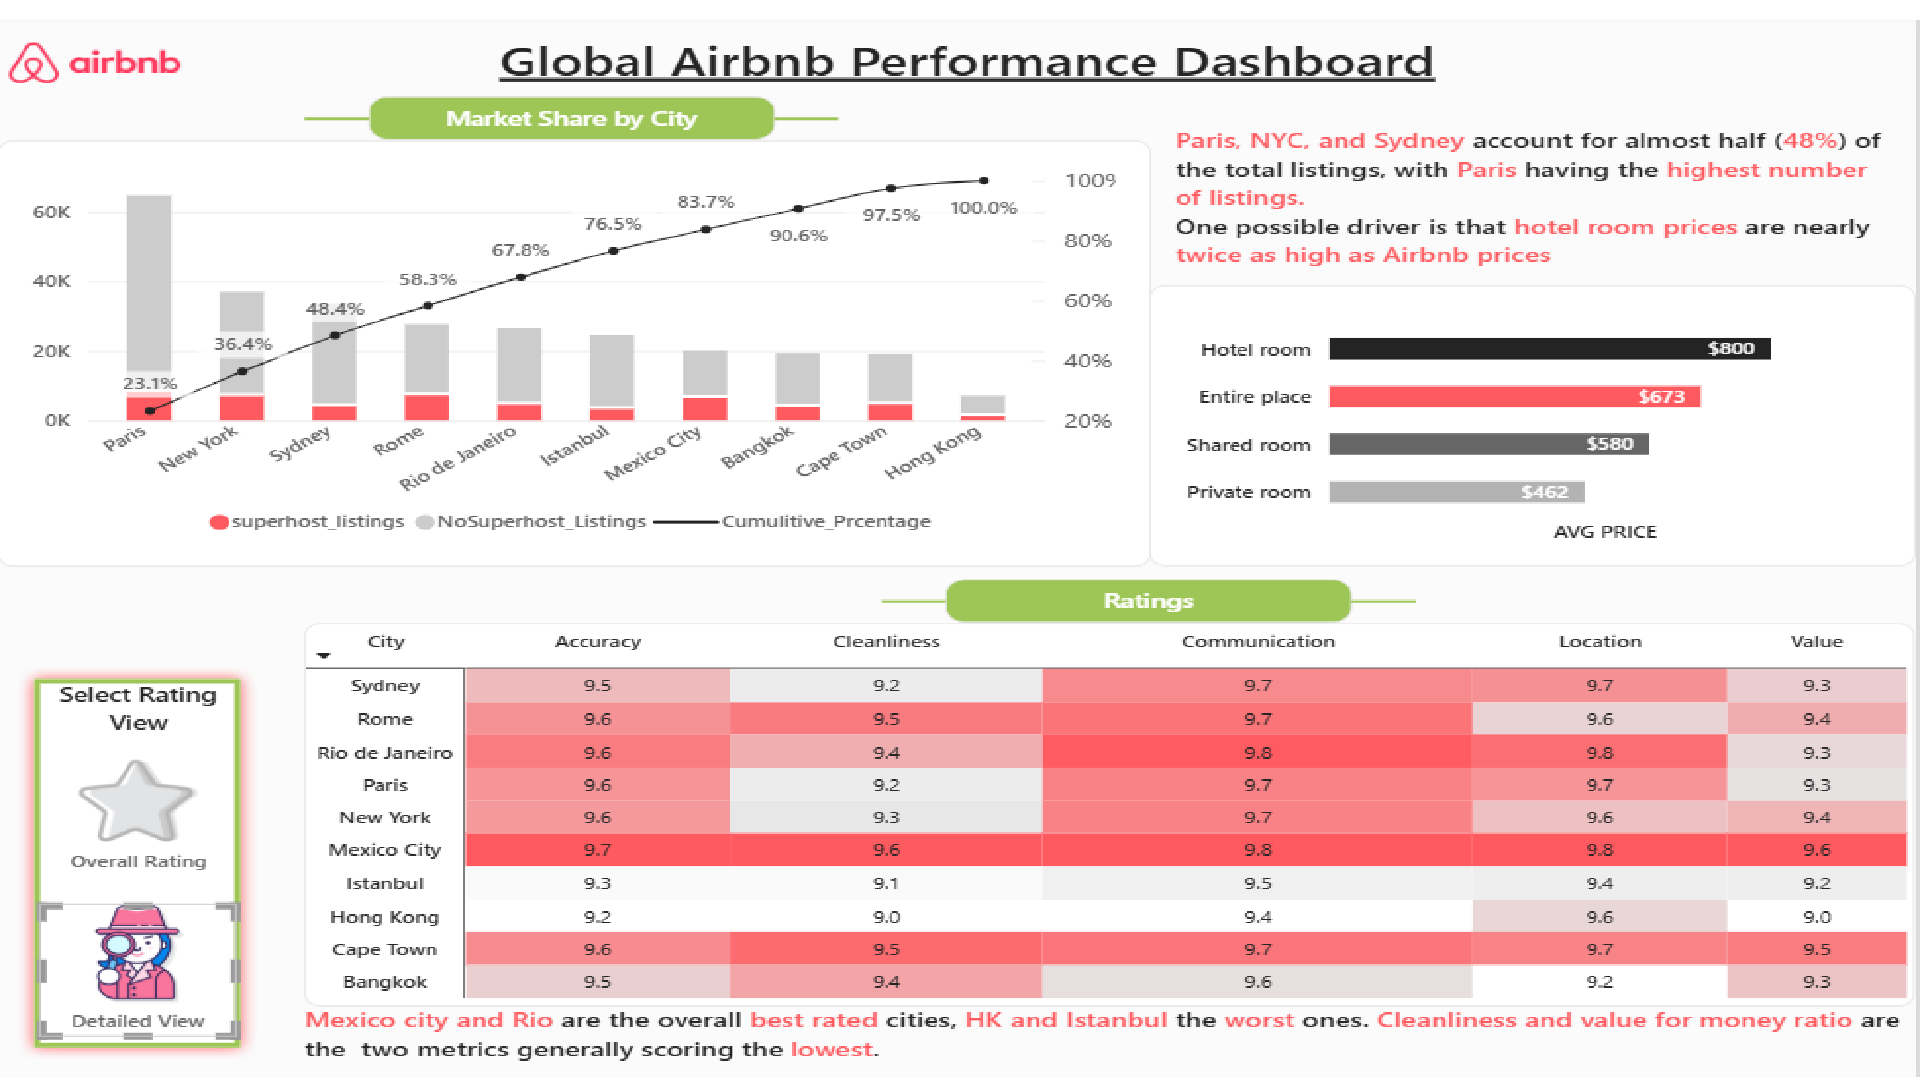

What the dashboard file says about the page in this screenshot:
{"tool":"powerbi","page":{"name":"Ratings","canvas":[960,720],"ordinal":1},"visuals":[{"type":"textbox","box":[10.2,12.8,949.4,66.6],"z":0},{"type":"image","box":[0,497,140.9,58.9],"z":0,"group":"g3"},{"type":"group","id":"g1","title":"Group 2","box":[21.8,595.7,98.7,67.9],"z":0,"group":"g2"},{"type":"image","box":[21.8,595.7,98.7,67.9],"z":0,"group":"g1"},{"type":"image","box":[0,19.2,97.4,26.9],"z":1000},{"type":"textbox","box":[21.8,555.9,97.4,25.6],"z":1000,"group":"g3"},{"type":"textbox","box":[21,664,99,21],"z":1000,"group":"g2"},{"type":"textbox","box":[185.8,55.1,203.7,29.5],"z":2000},{"type":"shape","box":[153.3,54.9,32.1,30],"z":3000},{"type":"shape","box":[388.4,54.9,32.1,30],"z":4000},{"type":"lineStackedColumnComboChart","fields":{"Category":["Listings.city"],"Y":["Listings.superhost_listings","Listings.Nosuperhost_Listings"],"Y2":["Listings.Cumulitive_Prcentage"]},"box":[0,84.6,576.5,285.7],"z":5000},{"type":"barChart","fields":{"Category":["Listings.room_type"],"Y":["Listings.AVG PRICE"]},"box":[576.5,181.9,383.1,188.3],"z":6000},{"type":"textbox","box":[589.3,55.1,358.8,147.5],"z":7000},{"type":"textbox","box":[474,377.9,203.7,29.5],"z":8000},{"type":"shape","box":[442,377.9,32.1,30],"z":9000},{"type":"shape","box":[677.7,377.9,32.1,30],"z":10000},{"type":"pivotTable","fields":{"Rows":["Listings.city"],"Values":["Listings.Accuracy","Listings.Cleanliness","Listings.Communication","Listings.Location","Listings.Value"]},"box":[153.7,407.4,805.9,256.2],"z":12000},{"type":"shape","box":[10.2,436.9,119.1,262.6],"z":13000},{"type":"textbox","box":[21,444,99,40],"z":14000},{"type":"group","id":"g2","title":"Group 3","box":[21,595.7,99.4,89.3],"z":15000},{"type":"group","id":"g3","title":"Group 1","box":[0,497,140.9,84.6],"z":16000},{"type":"textbox","box":[153.7,663.6,803.3,56.4],"z":17000}]}

Visuals, with their boxes on the page's 960x720 design canvas (x1, y1, x2, y2). These are canvas units, not pixel positions in the 1920x1079 screenshot, which may show the page scaled, cropped or inside an application window:
textbox: [10, 13, 960, 79]
image: [0, 497, 141, 556]
"Group 2" group: [22, 596, 120, 664]
image: [22, 596, 120, 664]
image: [0, 19, 97, 46]
textbox: [22, 556, 119, 582]
textbox: [21, 664, 120, 685]
textbox: [186, 55, 390, 85]
shape: [153, 55, 185, 85]
shape: [388, 55, 420, 85]
lineStackedColumnComboChart - Listings.city x Listings.superhost_listings: [0, 85, 576, 370]
barChart - Listings.room_type x Listings.AVG PRICE: [576, 182, 960, 370]
textbox: [589, 55, 948, 203]
textbox: [474, 378, 678, 407]
shape: [442, 378, 474, 408]
shape: [678, 378, 710, 408]
pivotTable - Listings.city x Listings.Accuracy: [154, 407, 960, 664]
shape: [10, 437, 129, 700]
textbox: [21, 444, 120, 484]
"Group 3" group: [21, 596, 120, 685]
"Group 1" group: [0, 497, 141, 582]
textbox: [154, 664, 957, 720]
